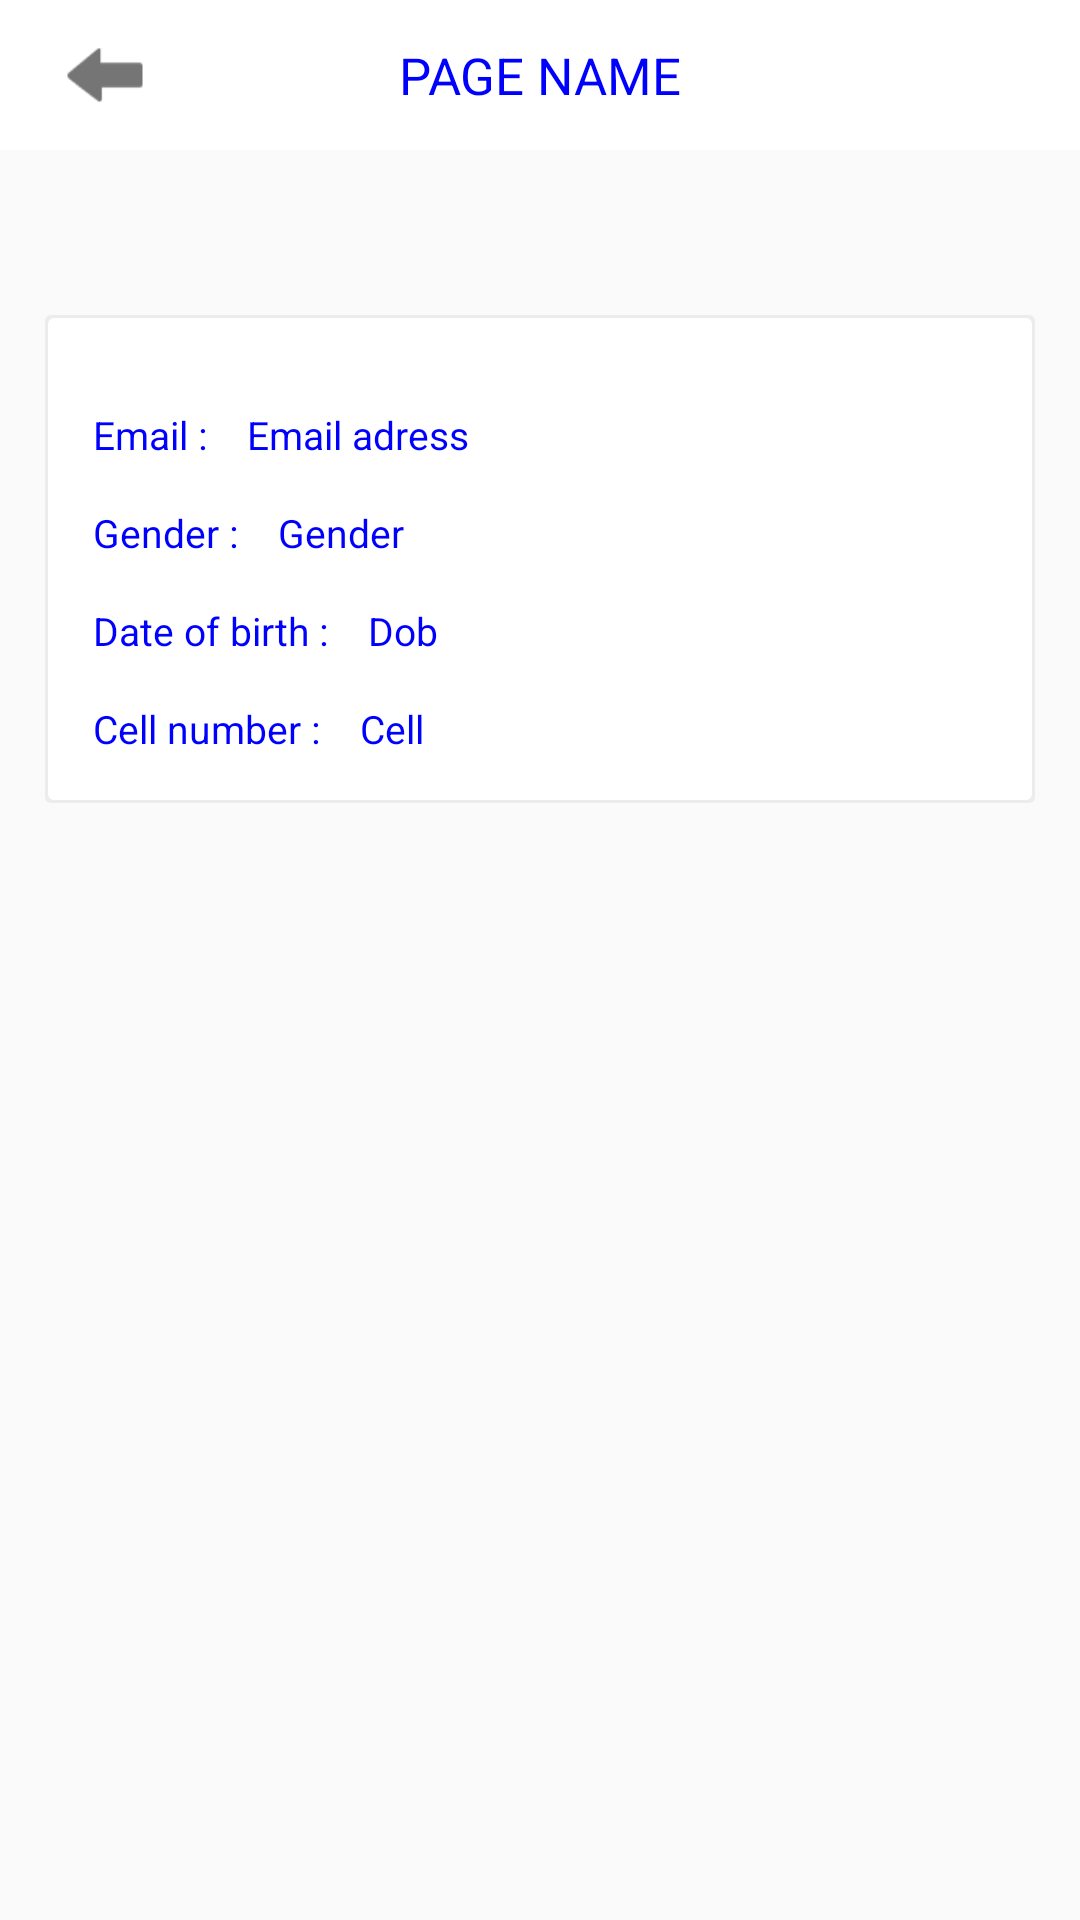

Icon click points for this 1080 x 1920 phone screenshot, format point (x, y):
back arrow: point (105, 75)
